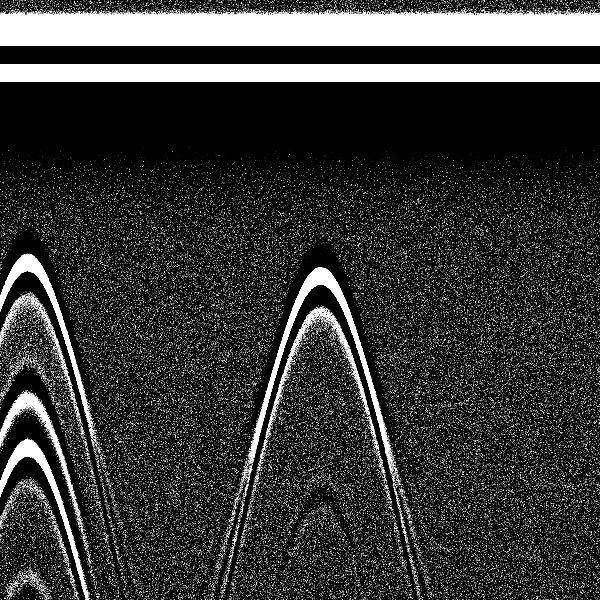pipe: (263, 6, 374, 351), (1, 7, 85, 354)
